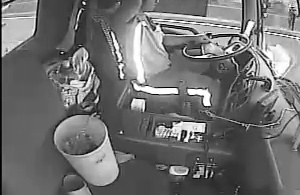paper: (168, 119, 206, 138)
